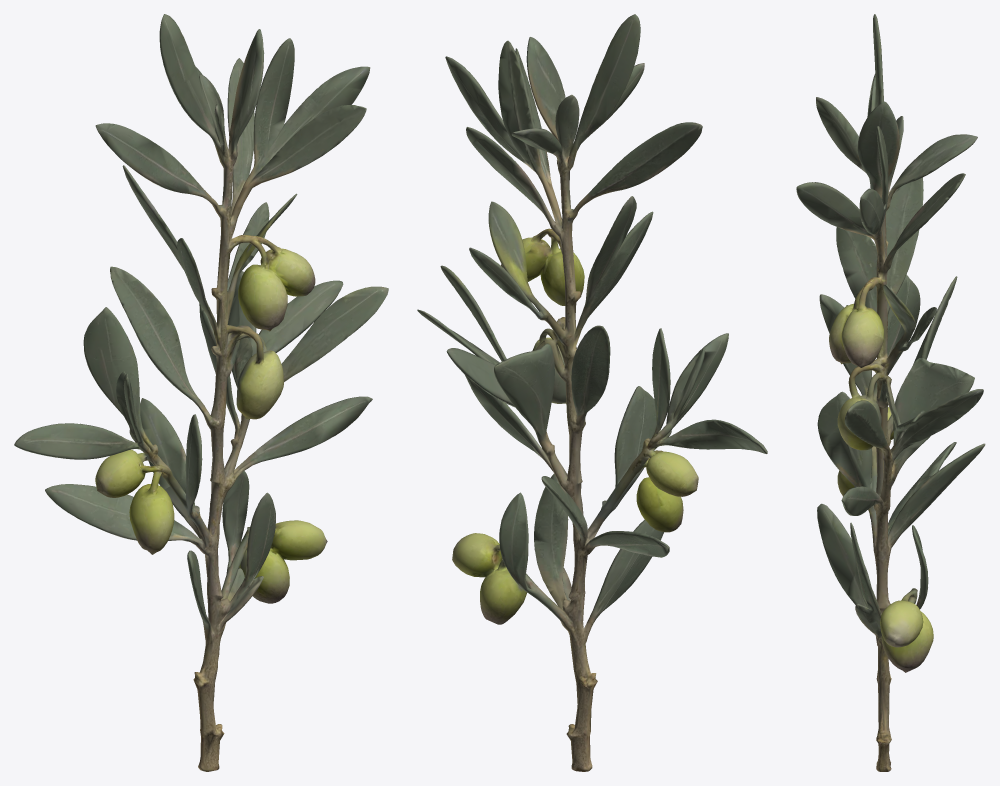
File: fl-green-olive-branch.glb
3 renders of one model, left to right at view 1: azimuth 30°, elevation 25°; view 2: azimuth 150°, elevation 25°; view 3: azimuth 270°, elevation 25°, orthographic. The views are drawn at different scales.
Parts seen in each view (by area): view 1: node_0; view 2: node_0; view 3: node_0.
Boxes of the visible parts, x1,y1,x2,y2 form: node_0: (14, 14, 388, 771); node_0: (417, 14, 767, 771); node_0: (796, 14, 985, 771).
Bounding box in the file's own units: 0.5684 × 1.19 × 0.2783.
1 material, 1 textured.
